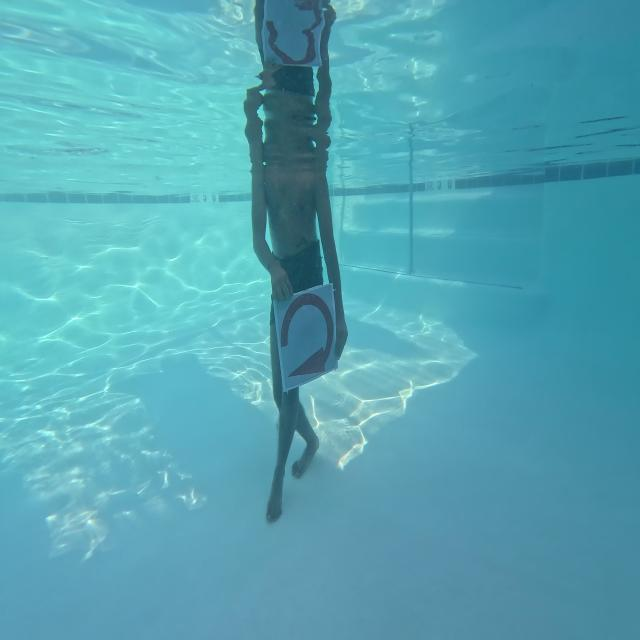red_side: (265, 276, 348, 395)
